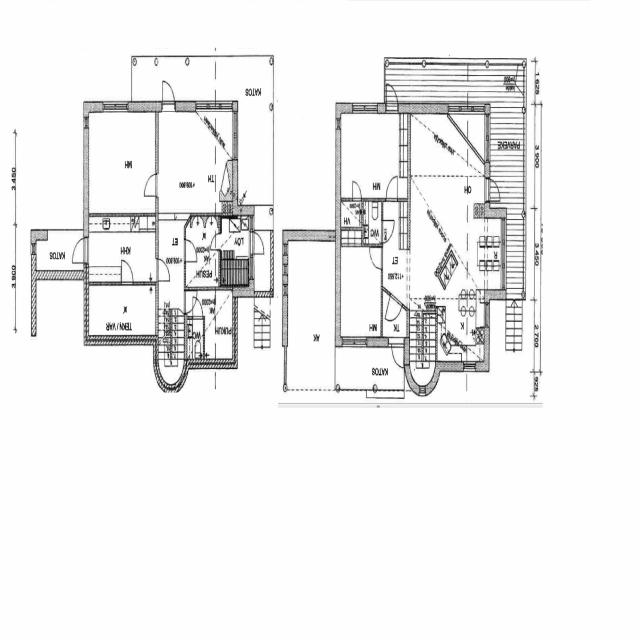door: (385, 294, 402, 329), (71, 238, 89, 262), (484, 177, 502, 201), (162, 76, 174, 110), (386, 80, 398, 113), (392, 338, 404, 370), (249, 232, 265, 254), (381, 220, 394, 243), (122, 259, 133, 286), (156, 259, 169, 281), (184, 240, 197, 262), (386, 175, 397, 201), (145, 174, 158, 195), (185, 292, 198, 313), (370, 248, 383, 269), (192, 296, 202, 319), (352, 181, 362, 201), (210, 232, 221, 250)
